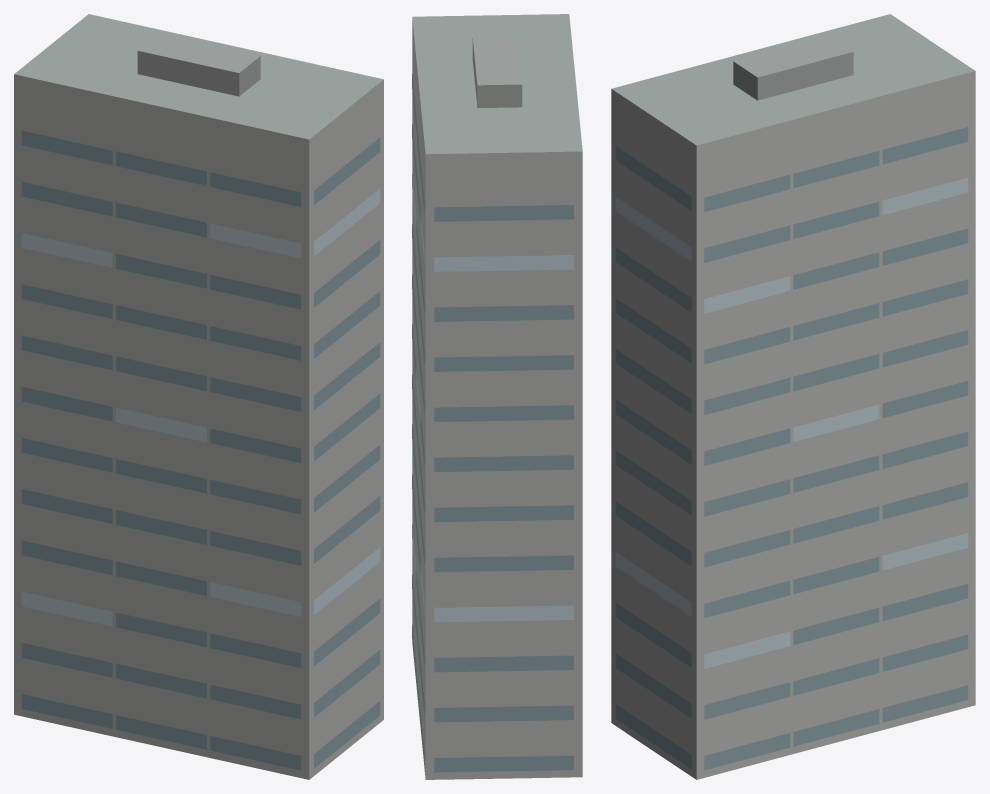
Rendered from fallback-sk-bukhansan-city-142.glb.
3 renders of one model, left to right at view 1: azimuth 30°, elevation 25°; view 2: azimuth 150°, elevation 25°; view 3: azimuth 270°, elevation 25°, orthographic. The views are drawn at different scales.
Parts seen in each view (by area): view 1: fallback-sk-bukhansan-city-142; view 2: fallback-sk-bukhansan-city-142; view 3: fallback-sk-bukhansan-city-142.
Part boxes in pixels (x1,y1,x2,y2): fallback-sk-bukhansan-city-142: [14, 14, 383, 779]; fallback-sk-bukhansan-city-142: [412, 14, 582, 779]; fallback-sk-bukhansan-city-142: [611, 14, 975, 779].
Size of the model in its own units: 29.19 by 68 by 34.13.
